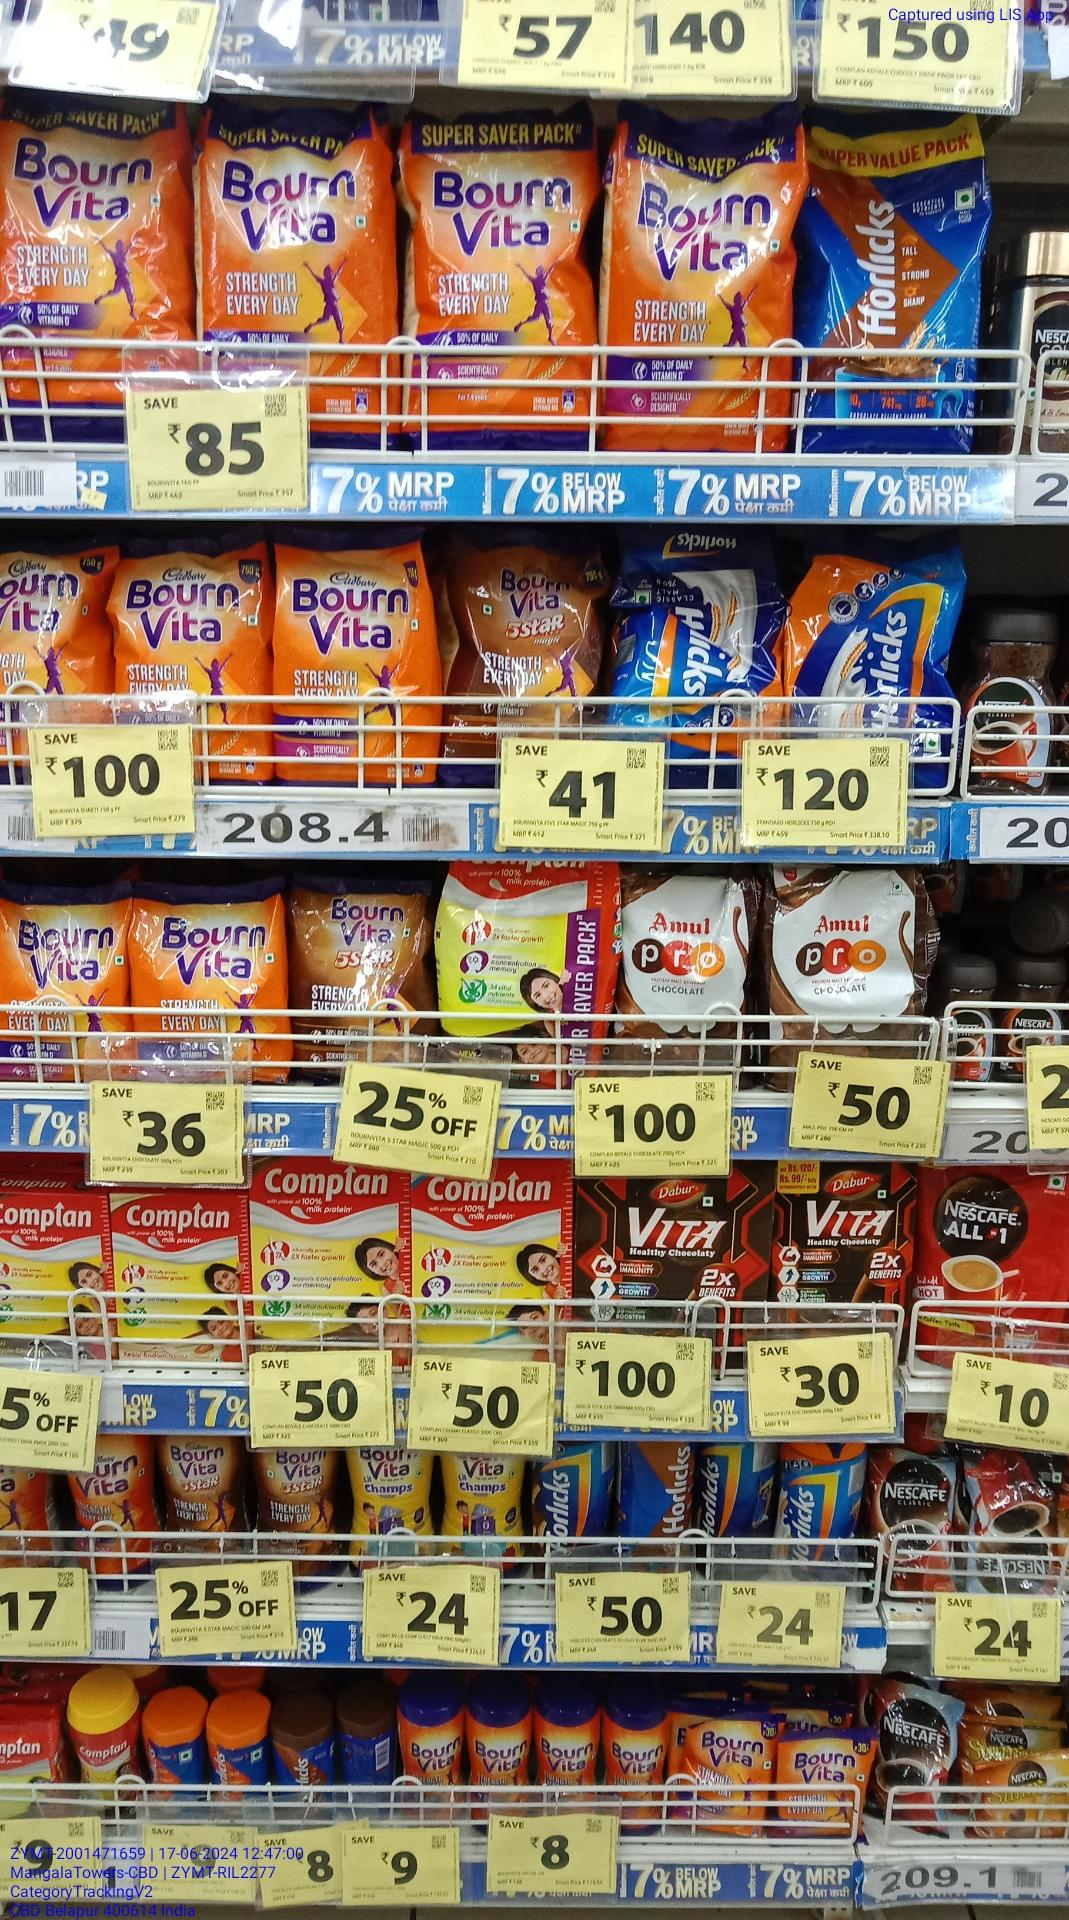BOURN_VITA_200_G_JAR: (607, 1713, 665, 1837), (405, 1702, 467, 1815), (534, 1711, 595, 1807), (471, 1709, 525, 1812)
BOURN_VITA_500_G_JAR: (71, 1474, 159, 1584)
BOURN_VITA_500_G_POUCH: (0, 884, 126, 1075), (128, 890, 284, 1042)
BOURN_VITA_750_G_POUCH: (599, 117, 787, 455), (404, 116, 591, 447), (4, 101, 199, 375), (207, 113, 396, 374), (278, 543, 438, 790), (111, 540, 273, 716), (0, 540, 107, 733)
BOURN_VITA_75_G_POUCH: (673, 1719, 771, 1836), (782, 1737, 872, 1841)
BOURN_VITA_CHAMPS_500_G_JAR: (349, 1454, 437, 1558), (445, 1449, 524, 1559)
BOURN_VITA_FIVE_STAR_MAGIC_500_G_POUCH: (294, 886, 432, 1061), (167, 1438, 245, 1550), (265, 1454, 337, 1565)
BOURN_VITA_FIVE_STAR_MAGIC_750_G_POUCH: (446, 545, 604, 733)
COMPLAN_CHOCOLATE_200_GMS_JAR: (74, 1713, 136, 1807)
COMPLAN_CHOCOLATE_200_GMS_PACK: (0, 1195, 105, 1366)
COMPLAN_CHOCOLATE_500_GMS_PACK: (258, 1165, 409, 1341)
COMPLAN_CREAMY_CLASSIC_500_G_PACK: (419, 1180, 570, 1328)
COMPLAN_KESAR_BADAM_200_GMS_PACK: (115, 1199, 250, 1367)
COMPLAN_RC_POUCH_700_GMS_12: (437, 857, 607, 1063)
HORLICK_CHOCOLATE_200_G_JAR: (275, 1736, 336, 1824)
HORLICK_CHOCOLATE_500_G_JAR: (621, 1444, 698, 1570), (534, 1458, 616, 1565)
HORLICK_CHOCOLATE_750_G_POUCH: (799, 117, 981, 455)
HORLICK_CLASSIC_MALT_200_G_JAR: (215, 1731, 263, 1815), (143, 1732, 203, 1796)
HORLICK_CLASSIC_MALT_500_G_JAR: (781, 1445, 858, 1577)
HORLICK_CLASSIC_MALT_750_G_POUCH: (620, 520, 790, 733), (796, 542, 956, 726)
